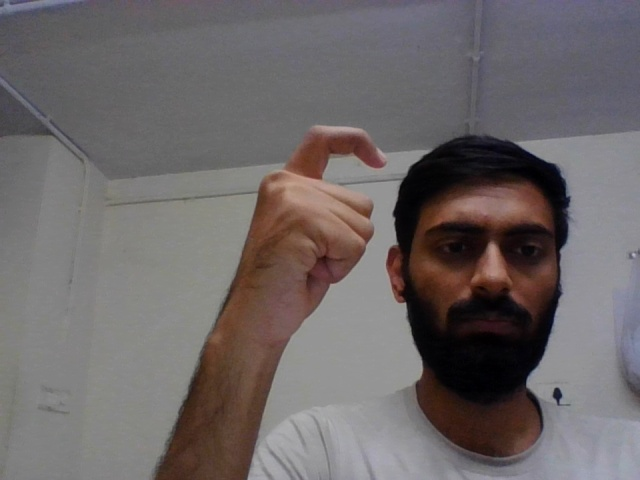X: (208, 119, 391, 356)
